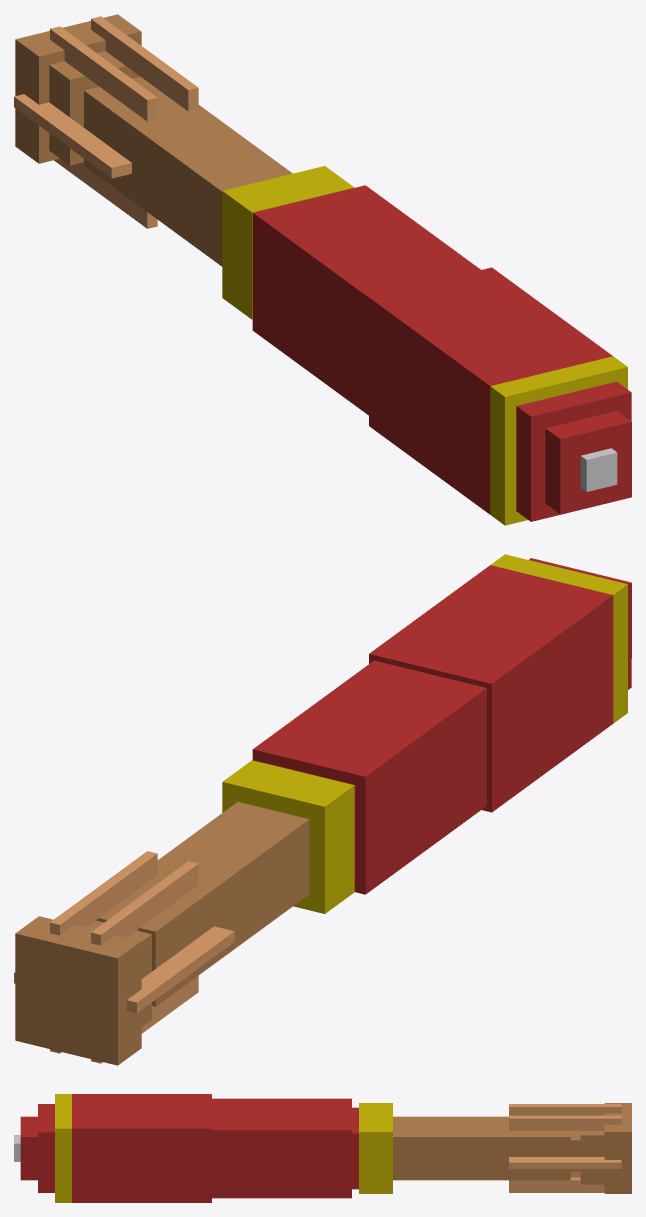
File: quad_launcher_rocket.fbx
3 renders of one model, top to bottom at view 1: azimuth 30°, elevation 25°; view 2: azimuth 150°, elevation 25°; view 3: azimuth 270°, elevation 25°, orthographic. The views are drawn at different scales.
Parts seen in each view (by area): view 1: quad_launcher_rocket_base, quad_launcher_rocket_urWing, quad_launcher_rocket_ulWing, quad_launcher_rocket_rWing, quad_launcher_rocket_drWing; view 2: quad_launcher_rocket_base, quad_launcher_rocket_urWing, quad_launcher_rocket_ulWing, quad_launcher_rocket_rWing, quad_launcher_rocket_drWing; view 3: quad_launcher_rocket_base, quad_launcher_rocket_ulWing, quad_launcher_rocket_urWing, quad_launcher_rocket_lWing, quad_launcher_rocket_dlWing.
Part boxes in pixels (bbox=[...]): quad_launcher_rocket_base: bbox=[15, 14, 631, 525]; quad_launcher_rocket_urWing: bbox=[50, 26, 157, 121]; quad_launcher_rocket_ulWing: bbox=[91, 16, 198, 111]; quad_launcher_rocket_rWing: bbox=[14, 94, 131, 178]; quad_launcher_rocket_drWing: bbox=[54, 159, 157, 228]; quad_launcher_rocket_base: bbox=[15, 554, 631, 1065]; quad_launcher_rocket_urWing: bbox=[91, 861, 198, 945]; quad_launcher_rocket_ulWing: bbox=[50, 851, 157, 935]; quad_launcher_rocket_rWing: bbox=[126, 926, 234, 1013]; quad_launcher_rocket_drWing: bbox=[91, 975, 198, 1063]; quad_launcher_rocket_base: bbox=[14, 1094, 631, 1202]; quad_launcher_rocket_ulWing: bbox=[509, 1115, 621, 1130]; quad_launcher_rocket_urWing: bbox=[509, 1104, 621, 1115]; quad_launcher_rocket_lWing: bbox=[509, 1157, 621, 1168]; quad_launcher_rocket_dlWing: bbox=[509, 1177, 604, 1192].
Size of the model in its own units: 14.4 by 14.4 by 109.
